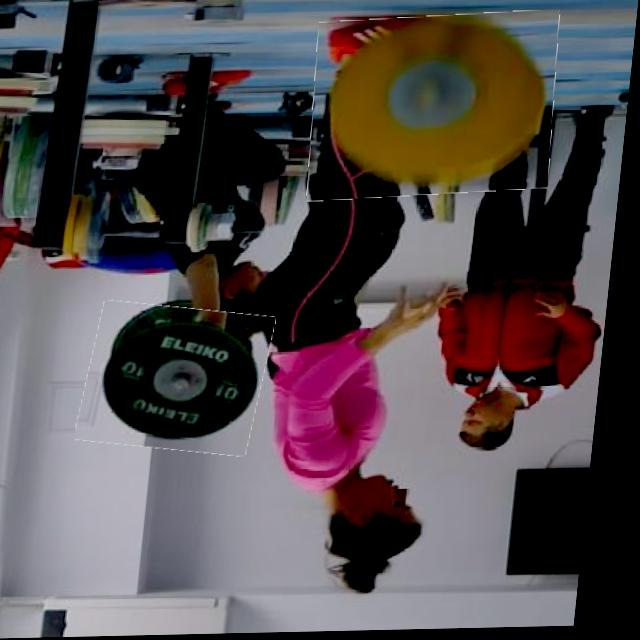barbell: (307, 15, 565, 202), (87, 303, 282, 456)
